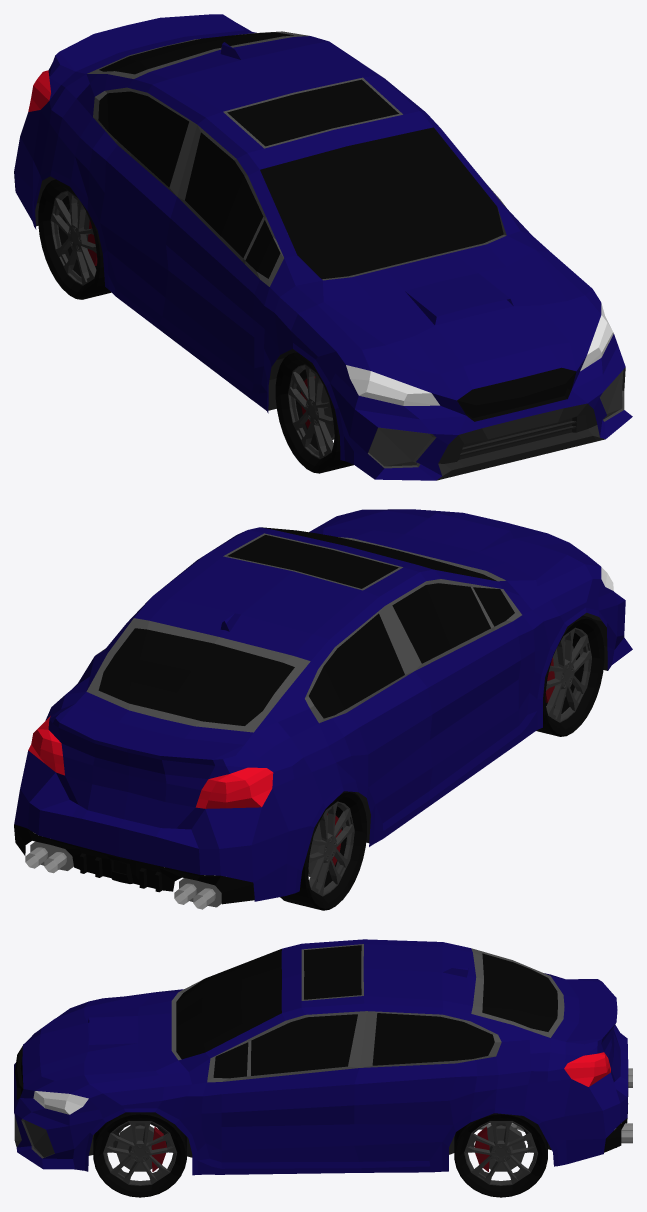
The model's file is wrx.glb.
3 views of the same model, one above another, from view 1: azimuth 30°, elevation 25°; view 2: azimuth 150°, elevation 25°; view 3: azimuth 270°, elevation 25° (orthographic). The views are drawn at different scales.
Visible parts, largest first — view 1: body, wheels; view 2: body, wheels; view 3: body, wheels.
Part boxes in pixels (<box>): body: <box>14,14,632,480</box>; wheels: <box>38,179,353,473</box>; body: <box>14,509,632,909</box>; wheels: <box>280,615,604,910</box>; body: <box>14,939,632,1175</box>; wheels: <box>93,1112,547,1197</box>.
Size of the model in its own units: 1.21 by 0.9974 by 3.1.
